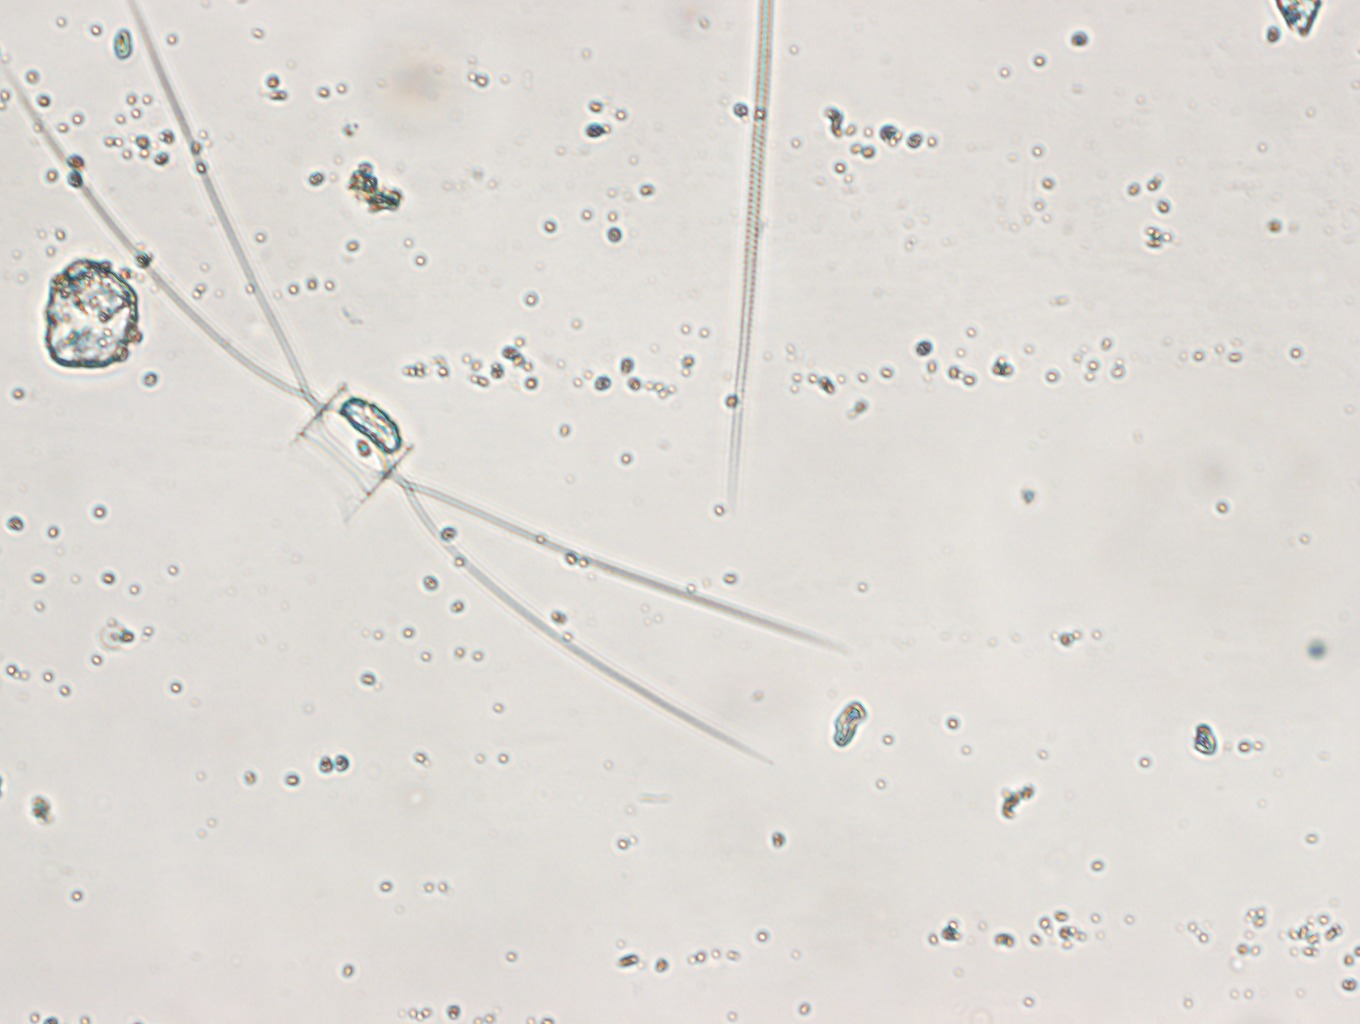chaetoceros: (8, 12, 787, 753)
